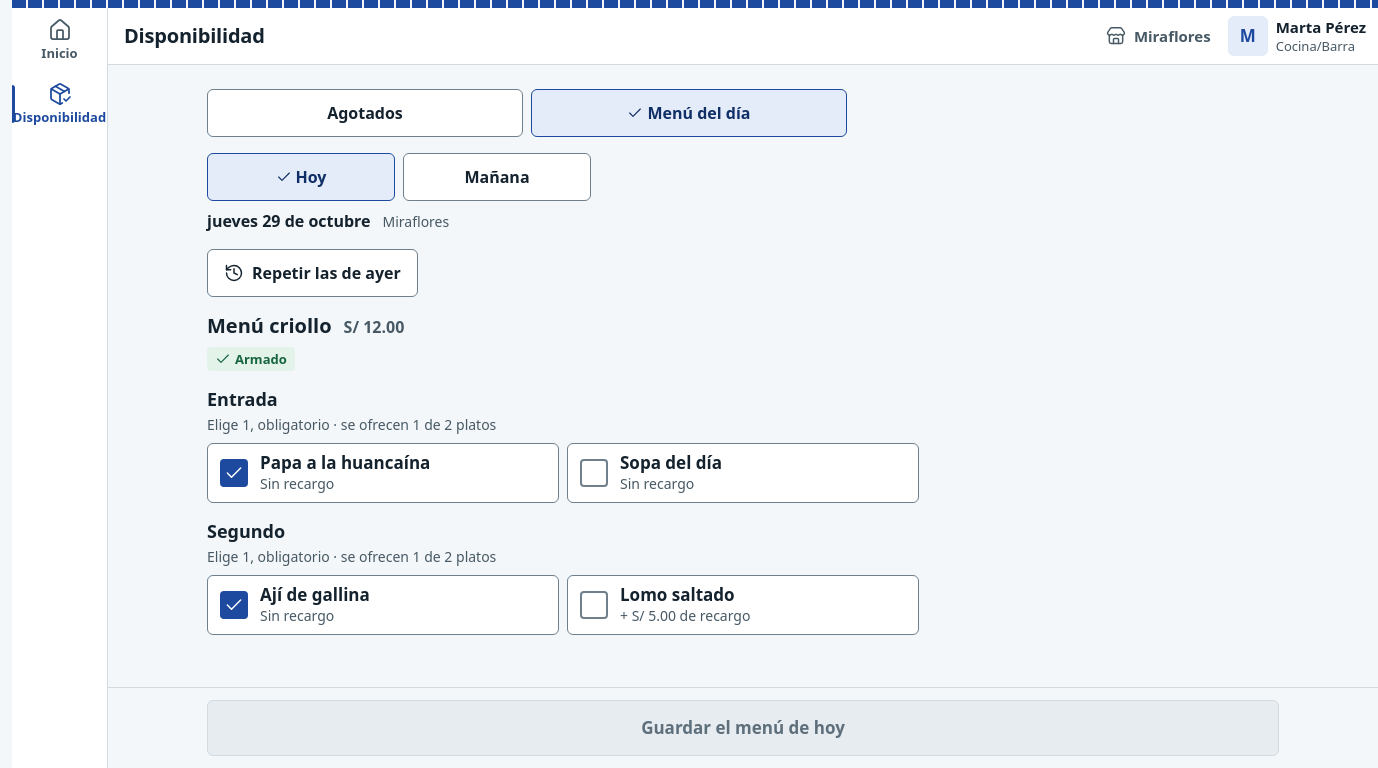
it: menú del día: armar › un error de la API se dice por menú y lo marcado sigue en pantalla
(page scrolled)
Click the checkbox labelled "Sopa del día Sin recargo".
click(671, 462)  # box [567, 443, 919, 503]
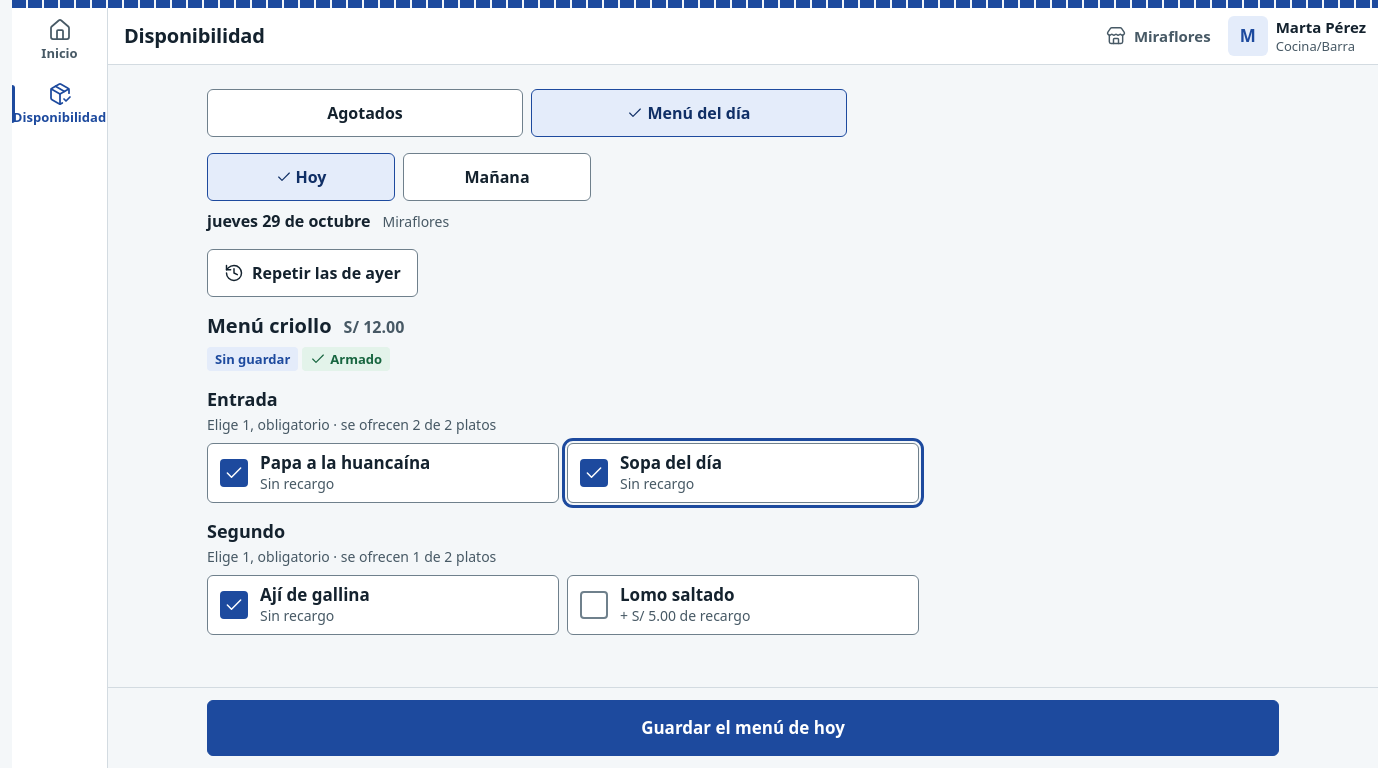
Click the button "Guardar el menú de hoy".
click(743, 728)  # box [207, 700, 1279, 756]
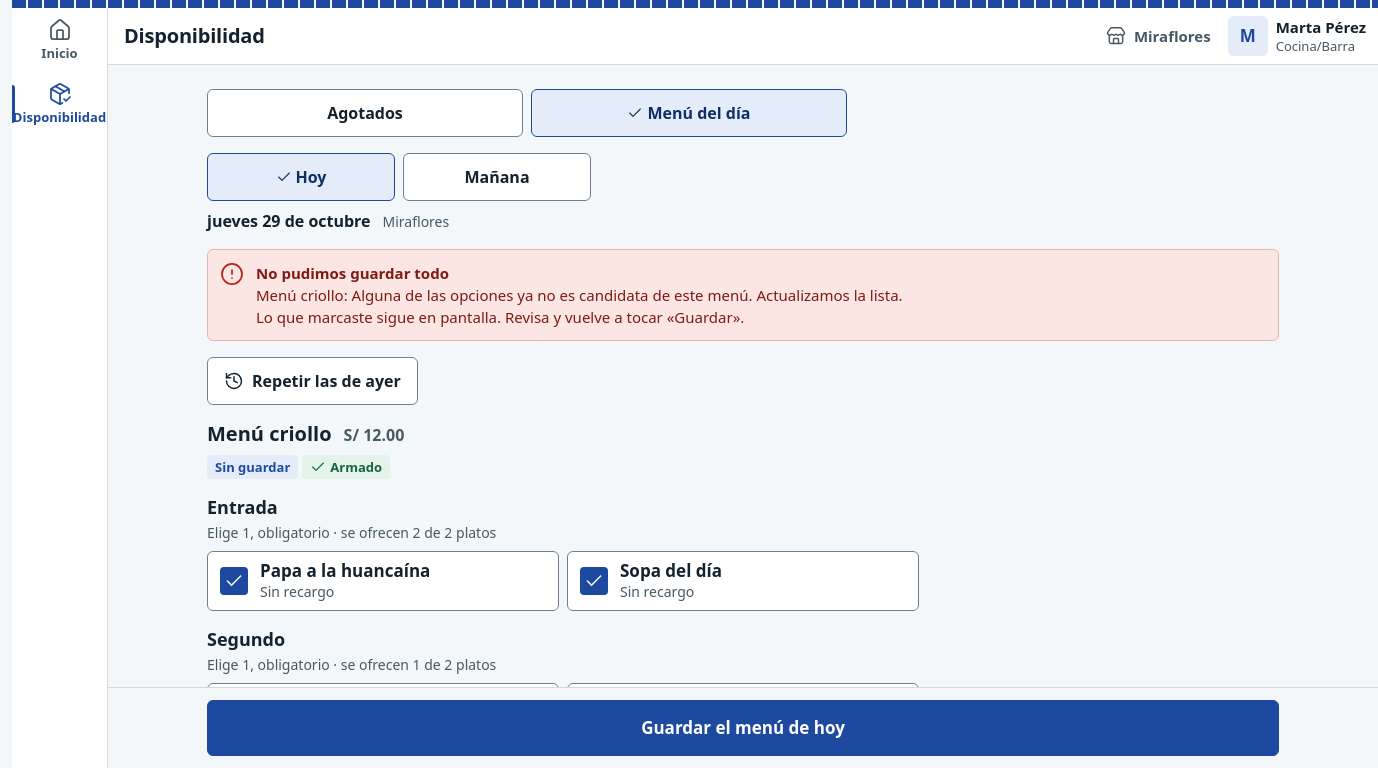
Expected: the checkbox labelled "Sopa del día Sin recargo" is checked, [567, 551, 919, 611]
Expected: the message shows "Menú criollo: Alguna de las opciones ya no es candidata", [256, 285, 903, 305]
Expected: the message shows "Lo que marcaste sigue en pantalla", [256, 307, 744, 327]
